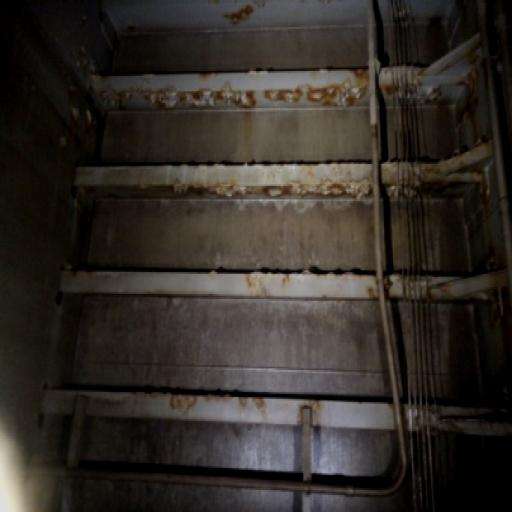Detect-rust-on-metal-surfaces: (95, 73, 476, 122), (144, 383, 277, 425), (218, 0, 264, 27)
